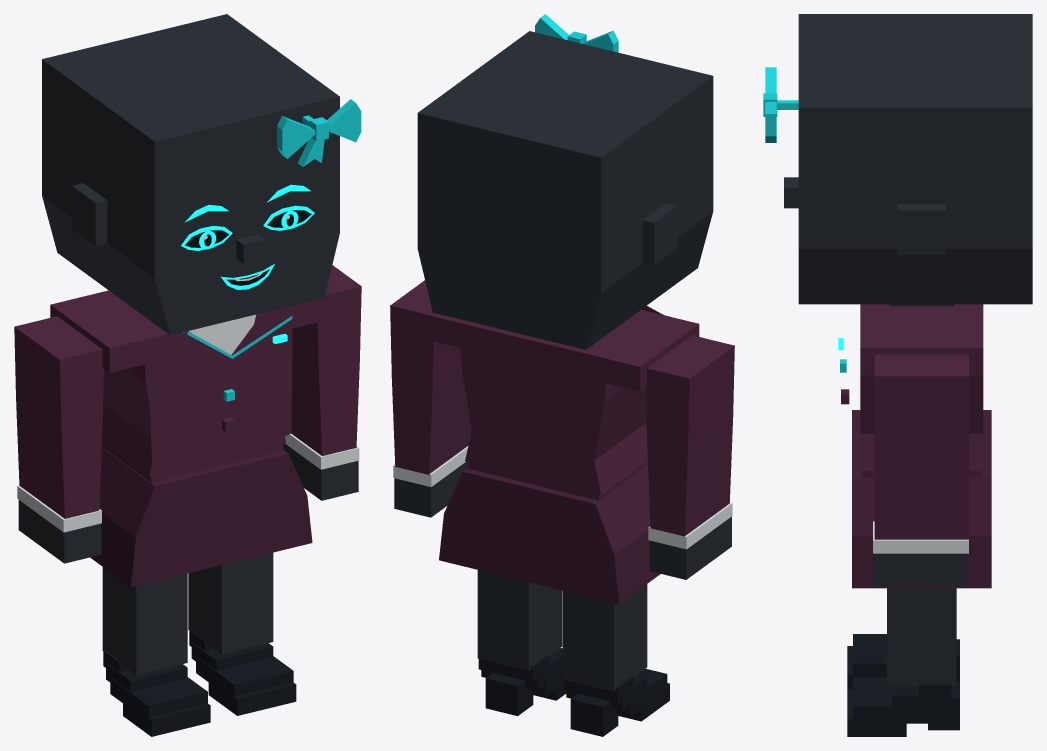
The model's file is agent_female_base_bald.glb.
The picture shows the model from 3 angles, left to right: view 1: azimuth 30°, elevation 25°; view 2: azimuth 150°, elevation 25°; view 3: azimuth 270°, elevation 25°; orthographic projection. The views are drawn at different scales.
Visible parts, largest first — view 1: char_head_visual, char_torso_visual, char_arm_negx_visual, char_leg_negx_visual, char_leg_posx_visual, char_arm_posx_visual, char_bow_visual, char_hand_negx_visual, char_hand_posx_visual, char_eye_negx_visual, char_eye_posx_visual, char_mouth_visual; view 2: char_head_visual, char_torso_visual, char_arm_negx_visual, char_arm_posx_visual, char_leg_negx_visual, char_leg_posx_visual, char_hand_negx_visual, char_hand_posx_visual, char_bow_visual; view 3: char_head_visual, char_arm_posx_visual, char_torso_visual, char_leg_posx_visual, char_hand_posx_visual, char_leg_negx_visual, char_bow_visual.
Boxes of the visible parts, <box> form: char_head_visual: <box>42,14,339,335</box>; char_torso_visual: <box>50,290,325,586</box>; char_arm_negx_visual: <box>14,316,103,532</box>; char_leg_negx_visual: <box>102,567,210,736</box>; char_leg_posx_visual: <box>188,552,296,715</box>; char_arm_posx_visual: <box>285,265,361,469</box>; char_bow_visual: <box>277,99,361,166</box>; char_hand_negx_visual: <box>18,500,101,563</box>; char_hand_posx_visual: <box>283,443,358,500</box>; char_eye_negx_visual: <box>181,226,232,250</box>; char_eye_posx_visual: <box>263,205,314,230</box>; char_mouth_visual: <box>221,264,274,289</box>; char_head_visual: <box>417,31,713,349</box>; char_torso_visual: <box>425,305,699,604</box>; char_arm_negx_visual: <box>646,335,734,549</box>; char_arm_posx_visual: <box>390,280,471,486</box>; char_leg_negx_visual: <box>562,584,669,736</box>; char_leg_posx_visual: <box>477,570,566,715</box>; char_hand_negx_visual: <box>649,516,731,579</box>; char_hand_posx_visual: <box>394,461,467,517</box>; char_bow_visual: <box>535,14,618,52</box>; char_head_visual: <box>784,14,1032,306</box>; char_arm_posx_visual: <box>873,354,968,553</box>; char_torso_visual: <box>840,304,991,588</box>; char_leg_posx_visual: <box>847,588,959,736</box>; char_hand_posx_visual: <box>873,553,967,585</box>; char_leg_negx_visual: <box>847,634,959,689</box>; char_bow_visual: <box>763,67,798,142</box>.
Bounding box in the file's own units: 0.88 × 1.74 × 0.656.
